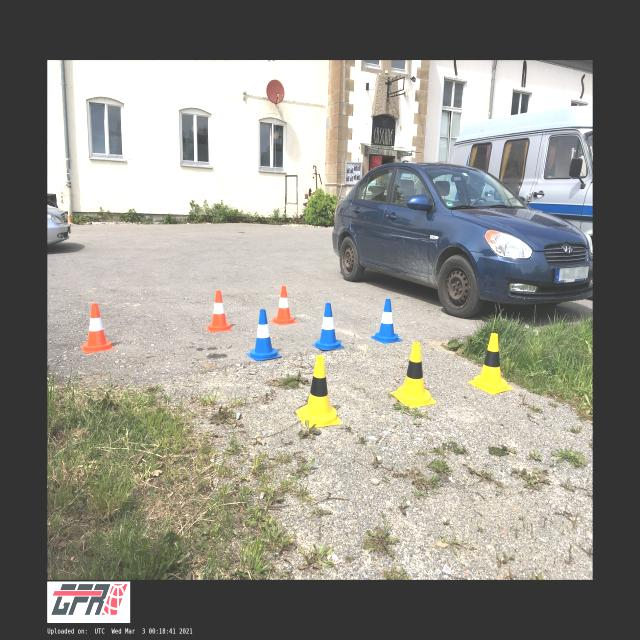blue_cone: (247, 309, 281, 361), (312, 303, 344, 350), (370, 299, 402, 343)
orange_cone: (80, 303, 114, 353), (206, 290, 232, 332), (271, 286, 297, 324)
yellow_cone: (296, 356, 342, 428), (392, 342, 437, 408), (468, 333, 512, 394)
